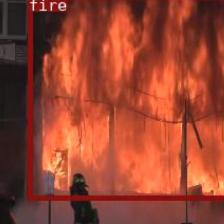fire: (26, 0, 224, 198)
